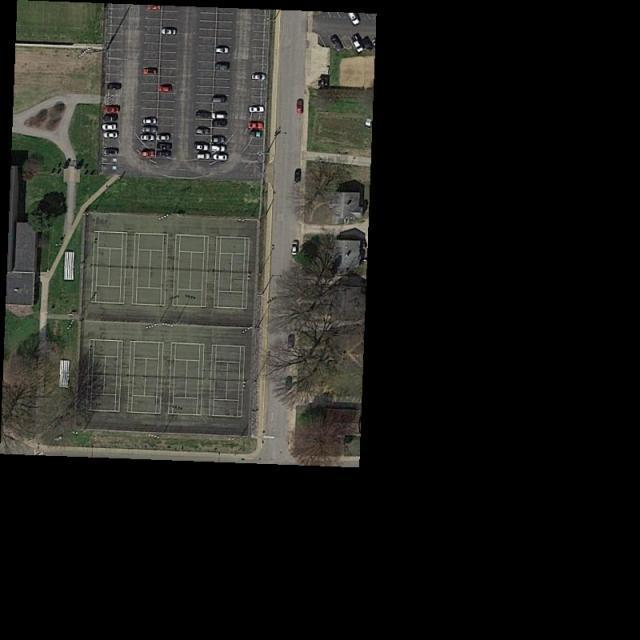vehicle: (330, 34, 344, 53), (362, 35, 374, 53), (346, 13, 360, 26), (352, 39, 364, 54), (196, 110, 211, 121), (249, 104, 265, 114), (193, 142, 210, 151), (103, 130, 119, 139), (102, 122, 118, 131), (287, 334, 296, 350), (292, 240, 300, 257), (211, 111, 226, 120), (211, 144, 226, 153), (139, 134, 155, 142), (105, 106, 121, 114), (162, 28, 178, 36), (294, 167, 302, 183), (250, 73, 266, 81), (142, 118, 157, 126), (104, 114, 119, 122), (158, 85, 173, 93), (107, 82, 122, 90), (248, 122, 263, 130), (141, 126, 158, 133), (286, 376, 294, 390), (216, 63, 230, 71), (297, 98, 304, 114), (196, 152, 210, 160), (214, 119, 228, 127), (141, 150, 155, 158), (157, 142, 173, 149), (196, 127, 210, 135), (214, 154, 229, 161), (217, 46, 230, 54), (157, 134, 170, 142), (250, 130, 263, 138), (144, 68, 158, 75), (104, 148, 118, 155), (157, 150, 171, 157), (212, 97, 226, 103), (214, 136, 225, 143)
